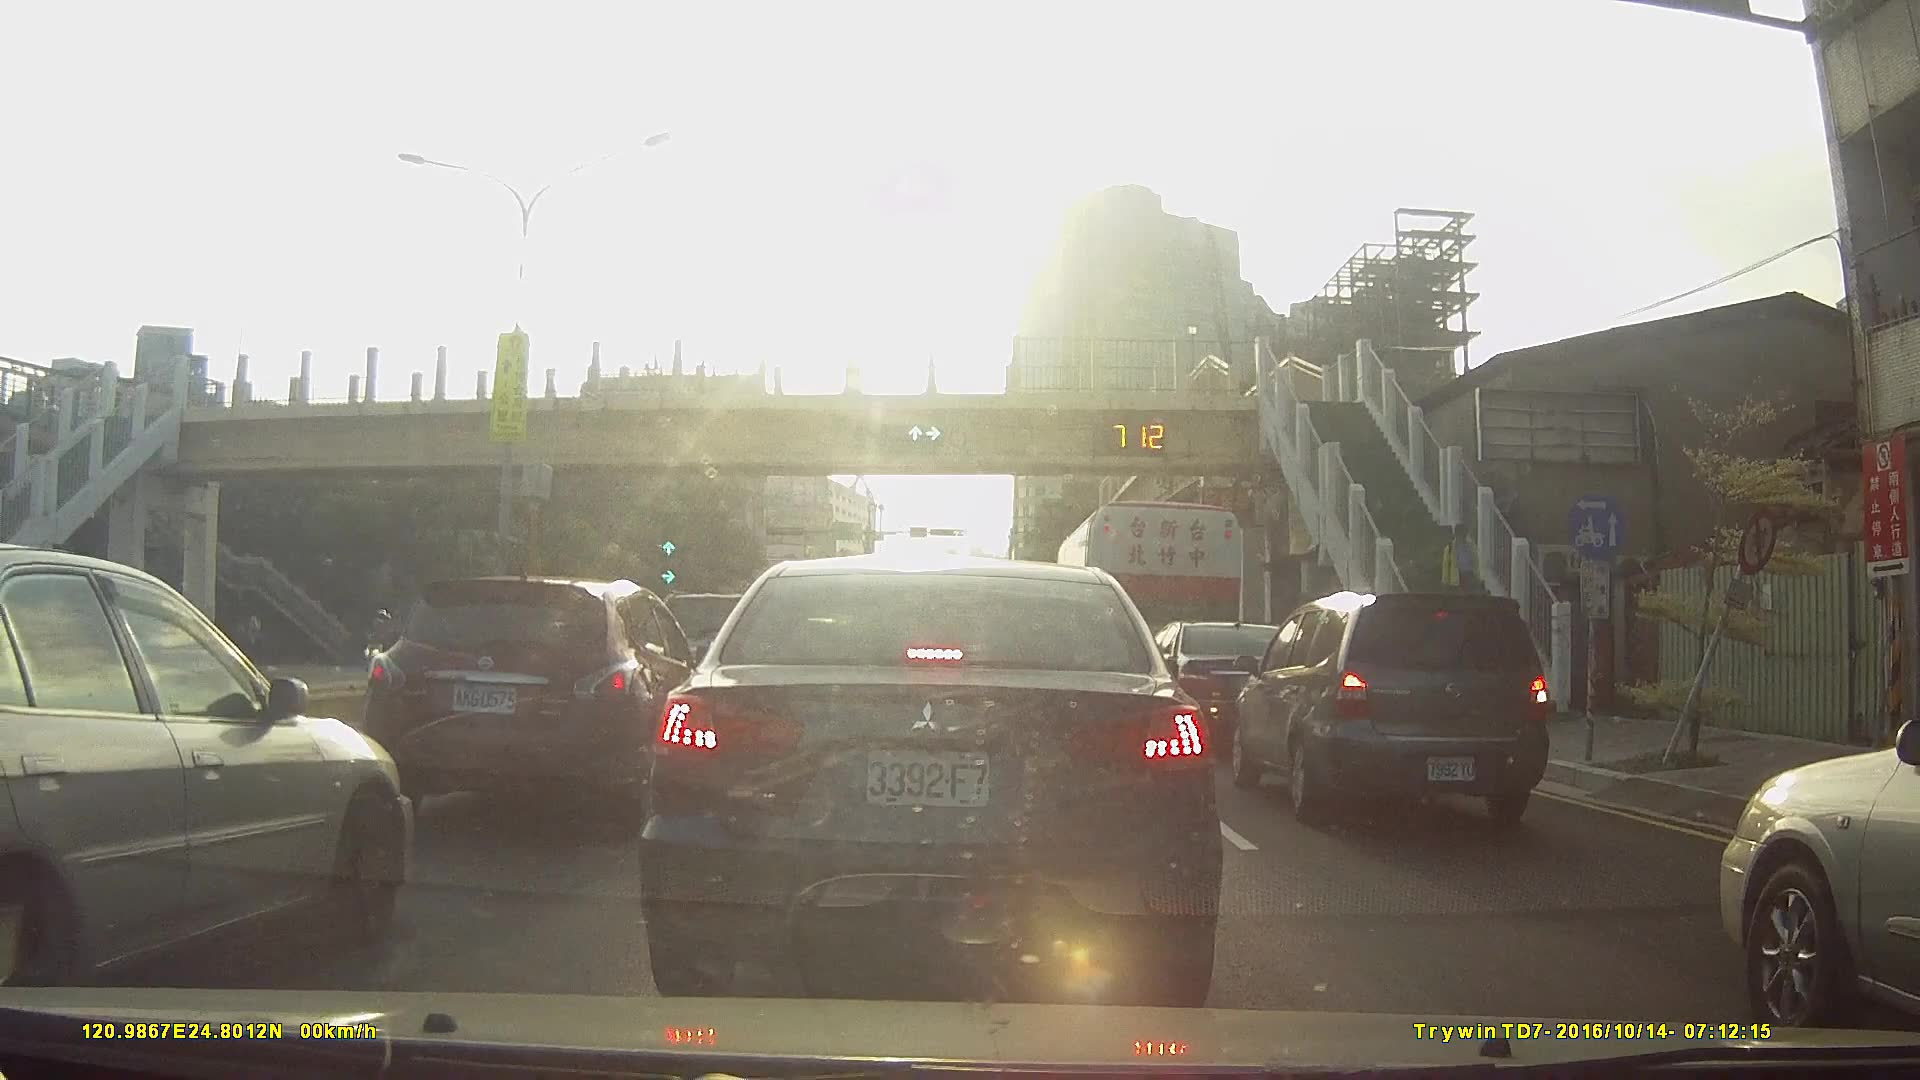pedestrian: (1441, 522, 1490, 627)
rider: (364, 605, 402, 681)
vehicle: (637, 553, 1221, 997), (0, 538, 413, 1011), (365, 572, 712, 818), (1227, 588, 1564, 824), (1710, 699, 1920, 1033), (1134, 619, 1326, 740)
